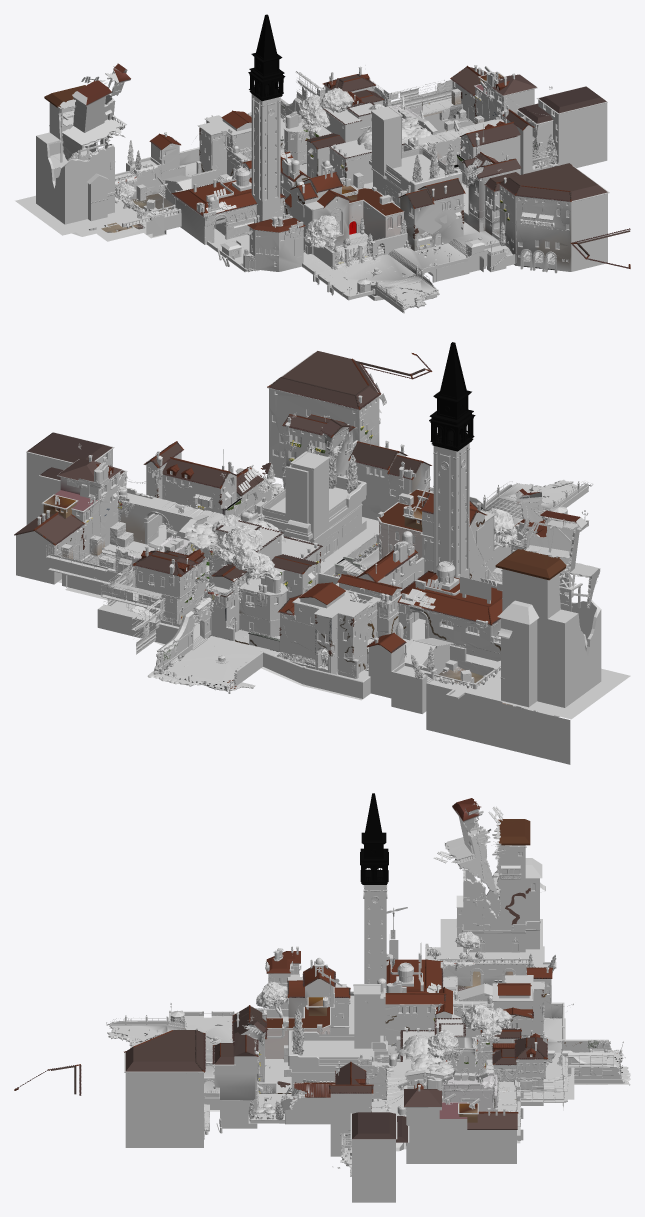
3 views of the same model, one above another, from view 1: azimuth 30°, elevation 25°; view 2: azimuth 150°, elevation 25°; view 3: azimuth 270°, elevation 25° (orthographic). The views are drawn at different scales.
Visible parts, largest first — view 1: WallElectricBox_0_B; view 2: WallElectricBox_0_B; view 3: WallElectricBox_0_B.
Part boxes in pixels (x1,y1,x2,y2): WallElectricBox_0_B: (15,14,630,313); WallElectricBox_0_B: (14,342,630,764); WallElectricBox_0_B: (14,793,630,1202).
Bounding box in the file's own units: 164 × 73.63 × 162.
